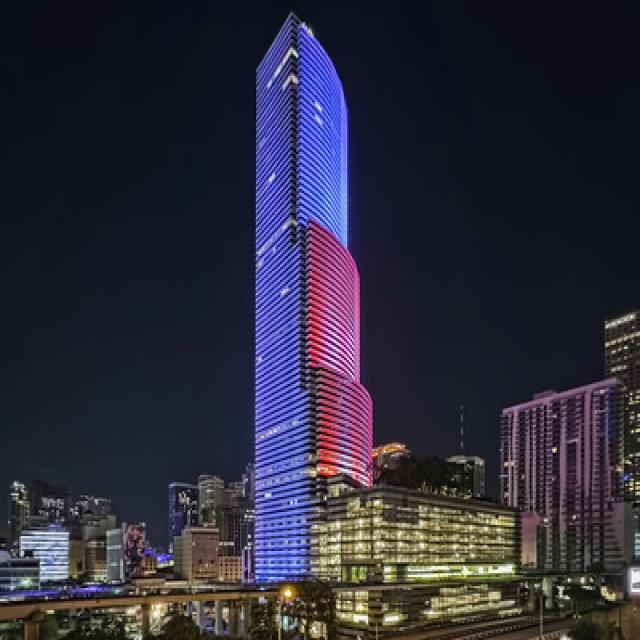Normal_building: (247, 8, 380, 602)
